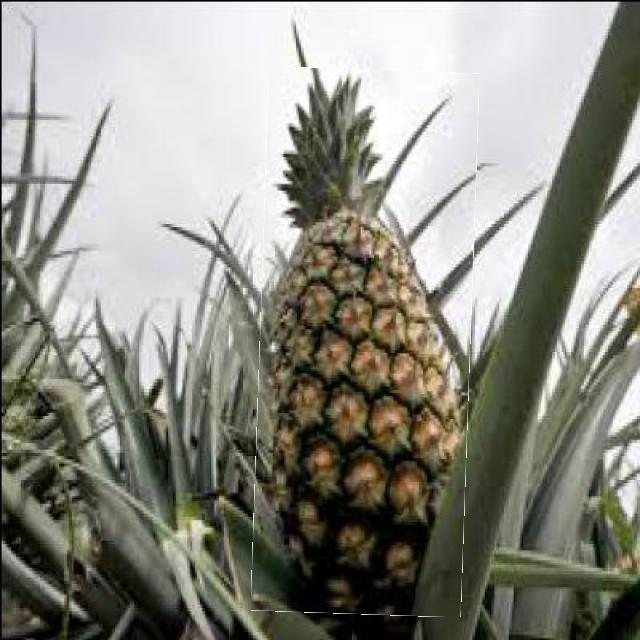Pineapple: (255, 69, 475, 616)
